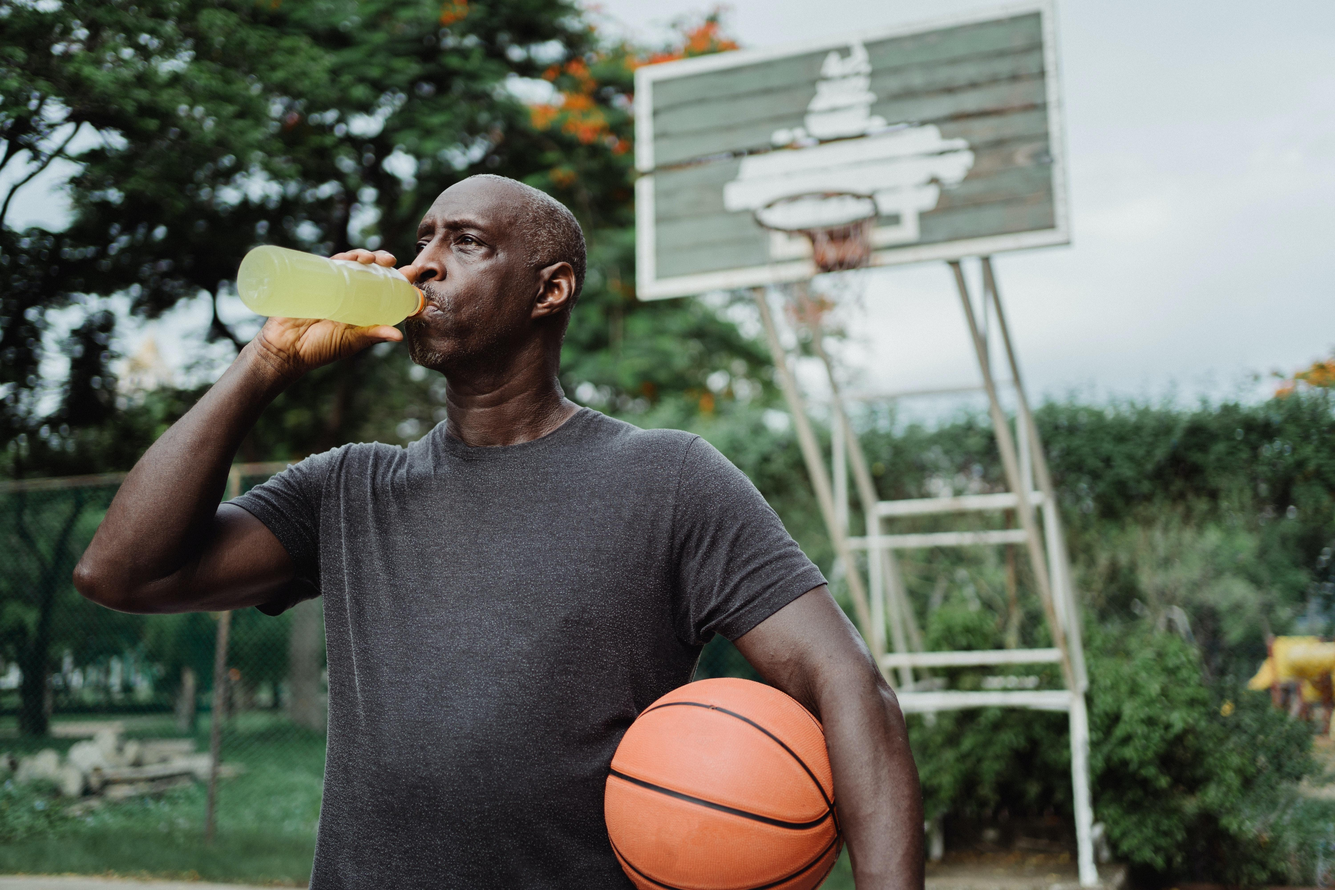bottle-plastic: (234, 240, 428, 331)
